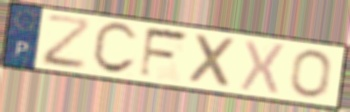C: (89, 21, 140, 77)
F: (137, 25, 192, 81)
O: (289, 48, 333, 101)
X: (188, 31, 240, 90), (237, 38, 288, 97)
Z: (41, 13, 94, 72)
